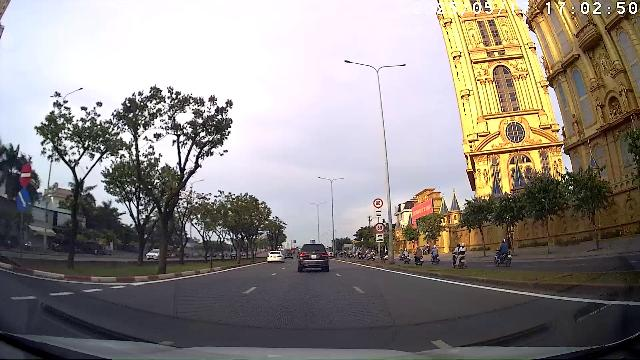127-toc-do-toi-da-60: (375, 223, 385, 233)
127-toc-do-toi-da-80: (373, 198, 383, 208)
